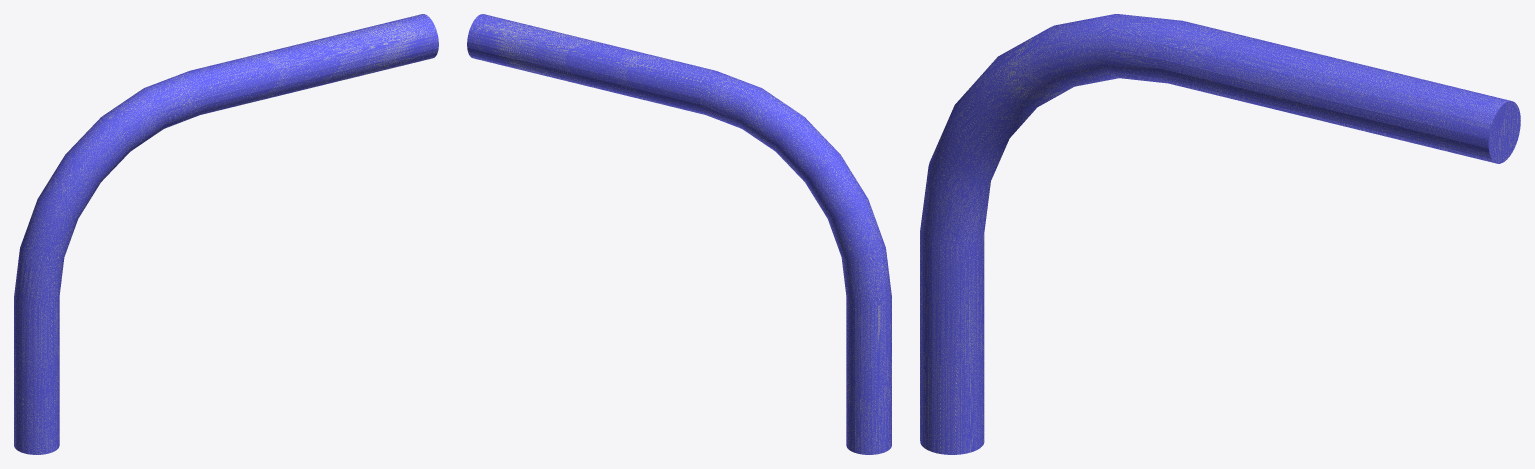
Rendered from original-80.obj.
3 views of the same model, side by side, from view 1: azimuth 30°, elevation 25°; view 2: azimuth 150°, elevation 25°; view 3: azimuth 330°, elevation 25° (orthographic). The views are drawn at different scales.
Visible parts, largest first — view 1: mesh80/mesh80-geometry#mesh80-geometry; view 2: mesh80/mesh80-geometry#mesh80-geometry; view 3: mesh80/mesh80-geometry#mesh80-geometry.
Boxes of the visible parts, x1,y1,x2,y2 form: mesh80/mesh80-geometry#mesh80-geometry: [14, 14, 438, 454]; mesh80/mesh80-geometry#mesh80-geometry: [467, 14, 891, 454]; mesh80/mesh80-geometry#mesh80-geometry: [920, 14, 1520, 454].
Bounding box in the file's own units: 0.0868 × 0.0676 × 0.00834.
